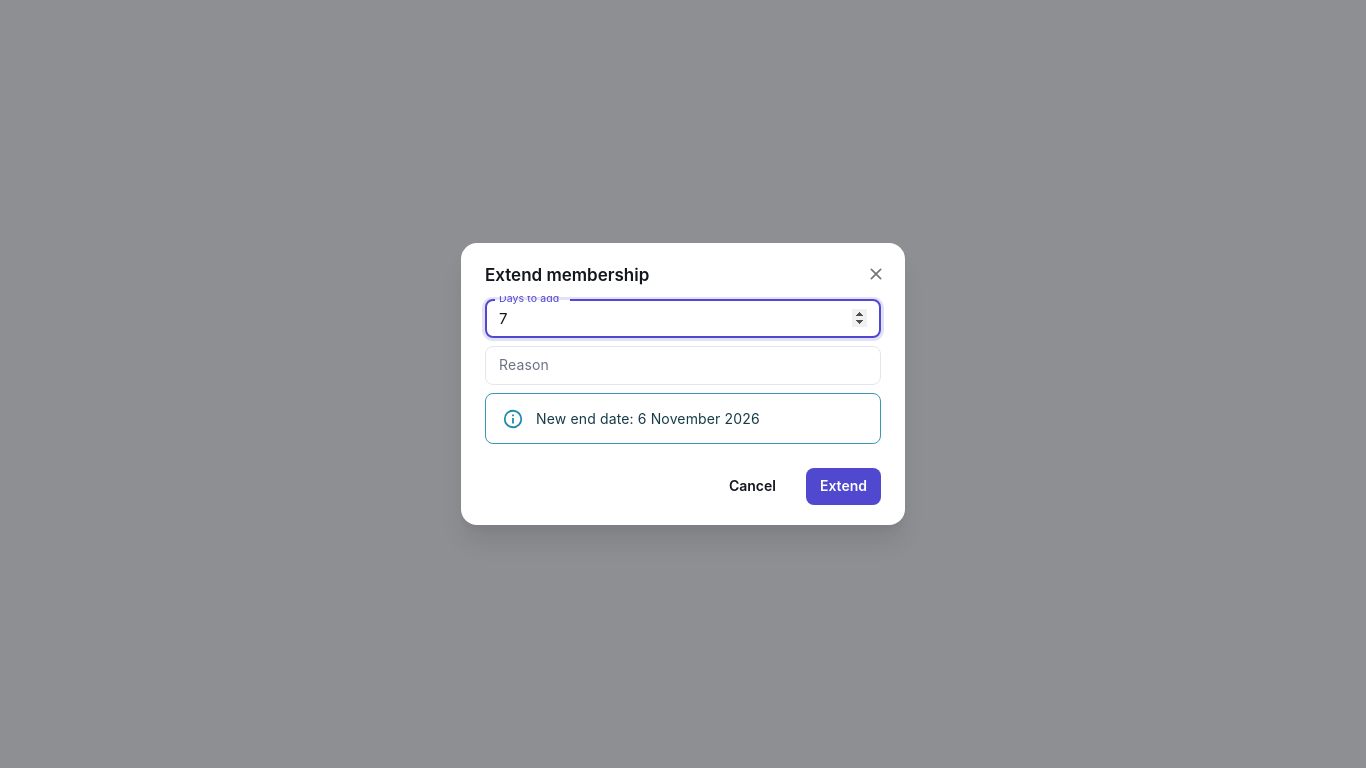
Test: membership actions › extend › shows the new end date before committing
Clear the number field labelled "Days to add" at (683, 319), box [485, 300, 881, 338]
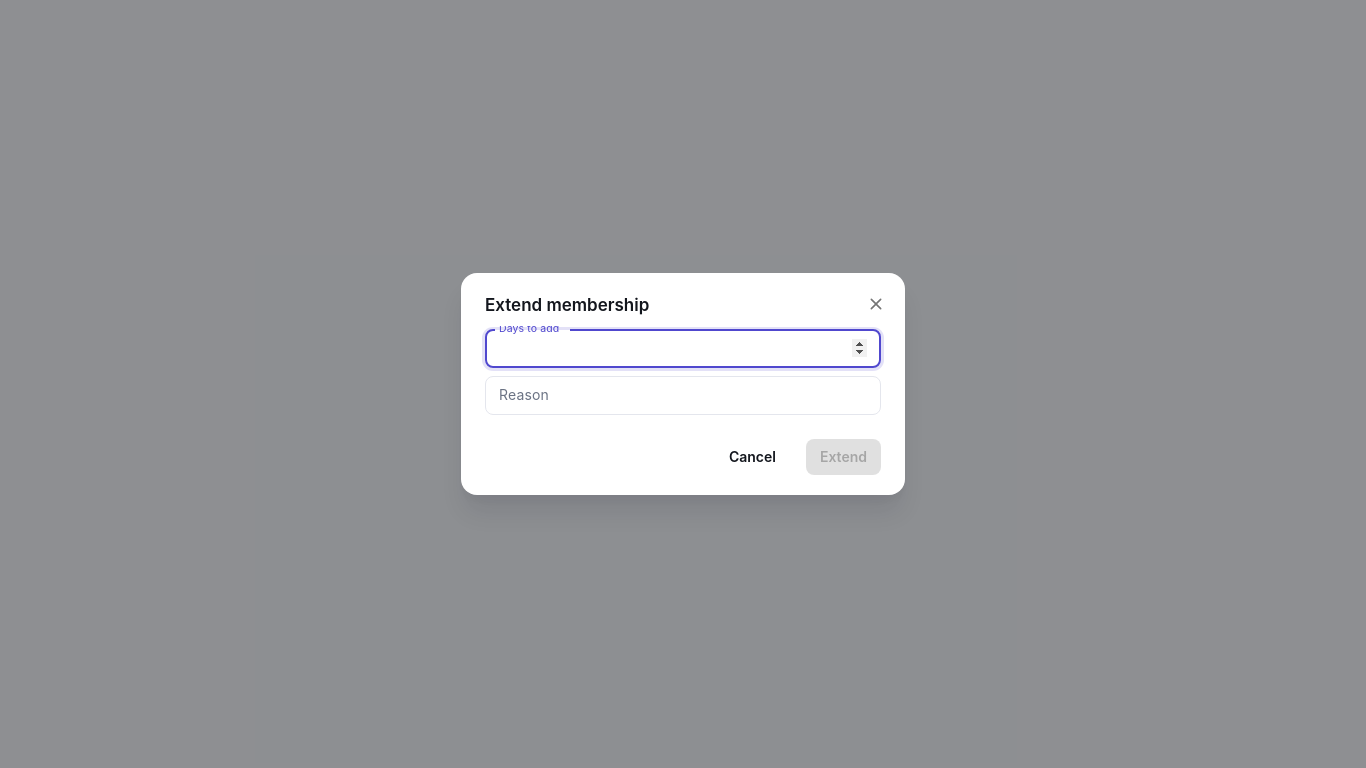
Type "7" into the number field labelled "Days to add".
click(683, 349); type("7")  # box [485, 330, 881, 368]
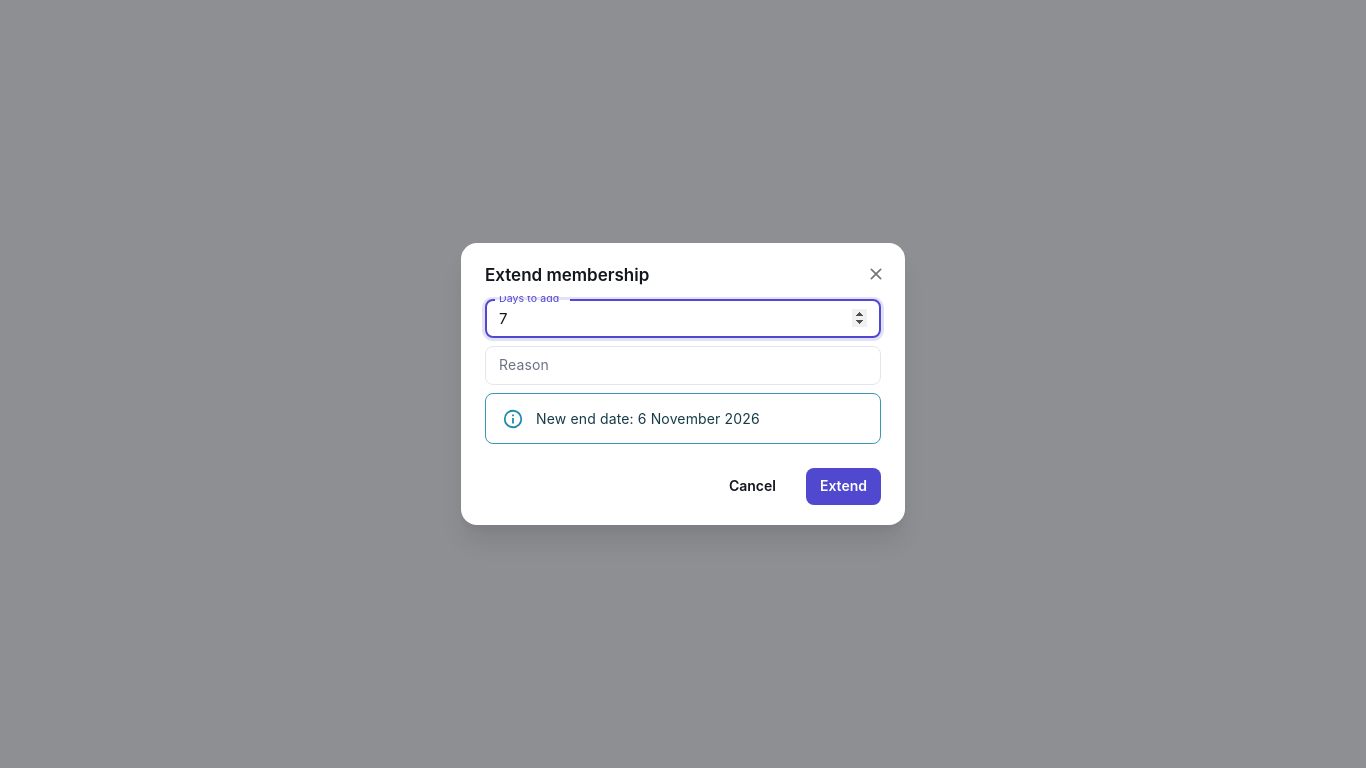
Expected: the text "New end date: 6 November 2026" is shown, [536, 410, 760, 427]
